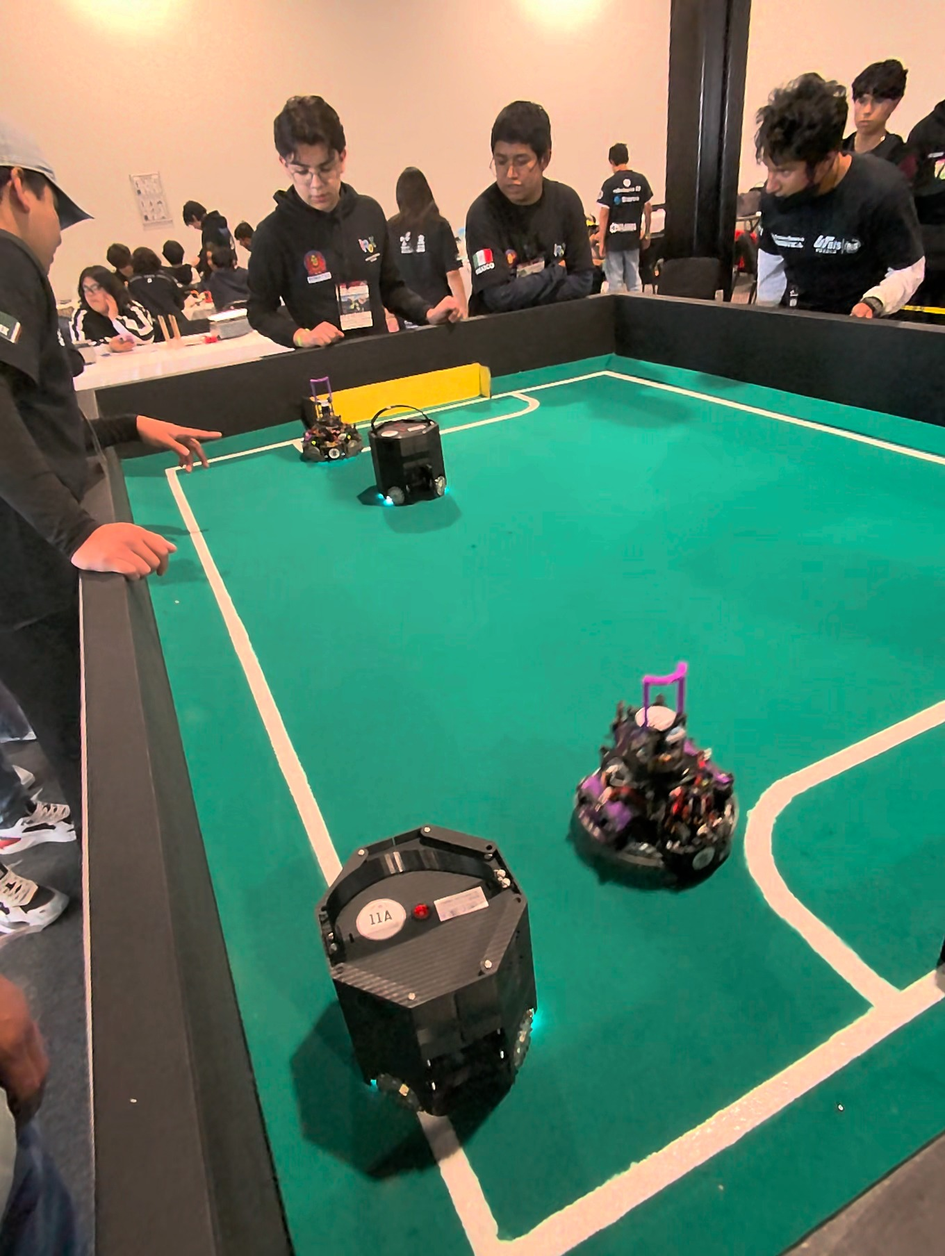Robot: (299, 824, 548, 1146), (570, 687, 739, 899), (368, 384, 457, 528), (297, 372, 357, 470)
